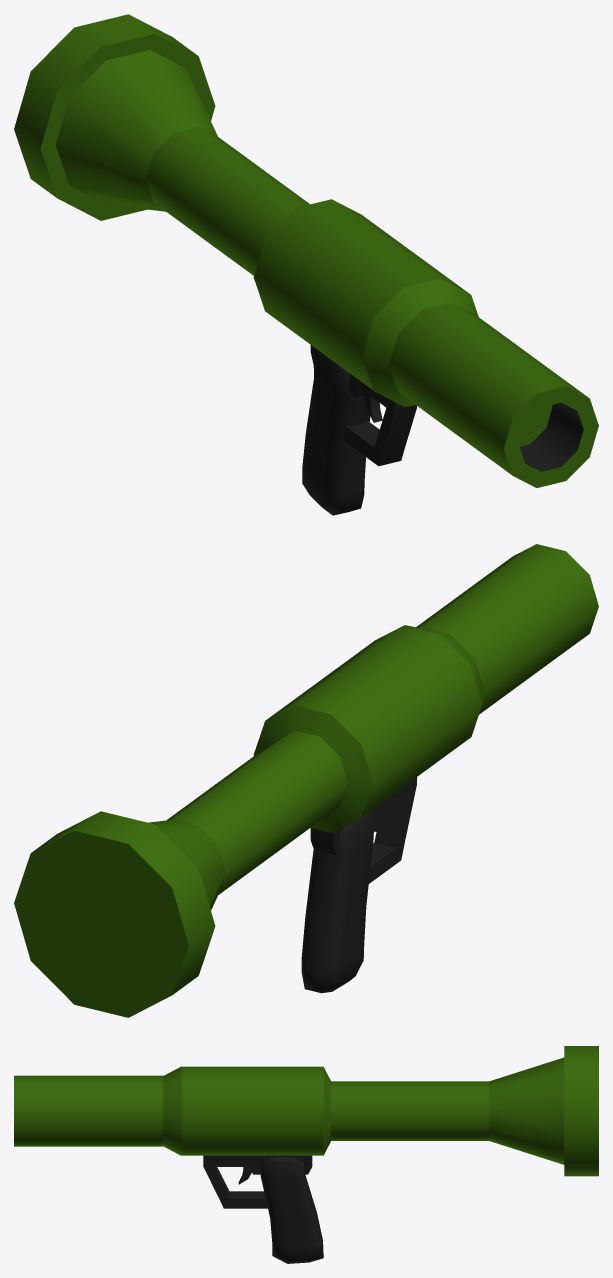
Rendered from RPG.fbx.
3 renders of one model, top to bottom at view 1: azimuth 30°, elevation 25°; view 2: azimuth 150°, elevation 25°; view 3: azimuth 270°, elevation 25°, orthographic. The views are drawn at different scales.
Visible parts, largest first — view 1: RPG_Container; view 2: RPG_Container; view 3: RPG_Container.
Boxes of the visible parts, bbox=[...] form: RPG_Container: bbox=[14, 14, 598, 515]; RPG_Container: bbox=[14, 544, 598, 1017]; RPG_Container: bbox=[14, 1046, 598, 1263].
Bounding box in the file's own units: 22.37 × 38.84 × 99.66.
